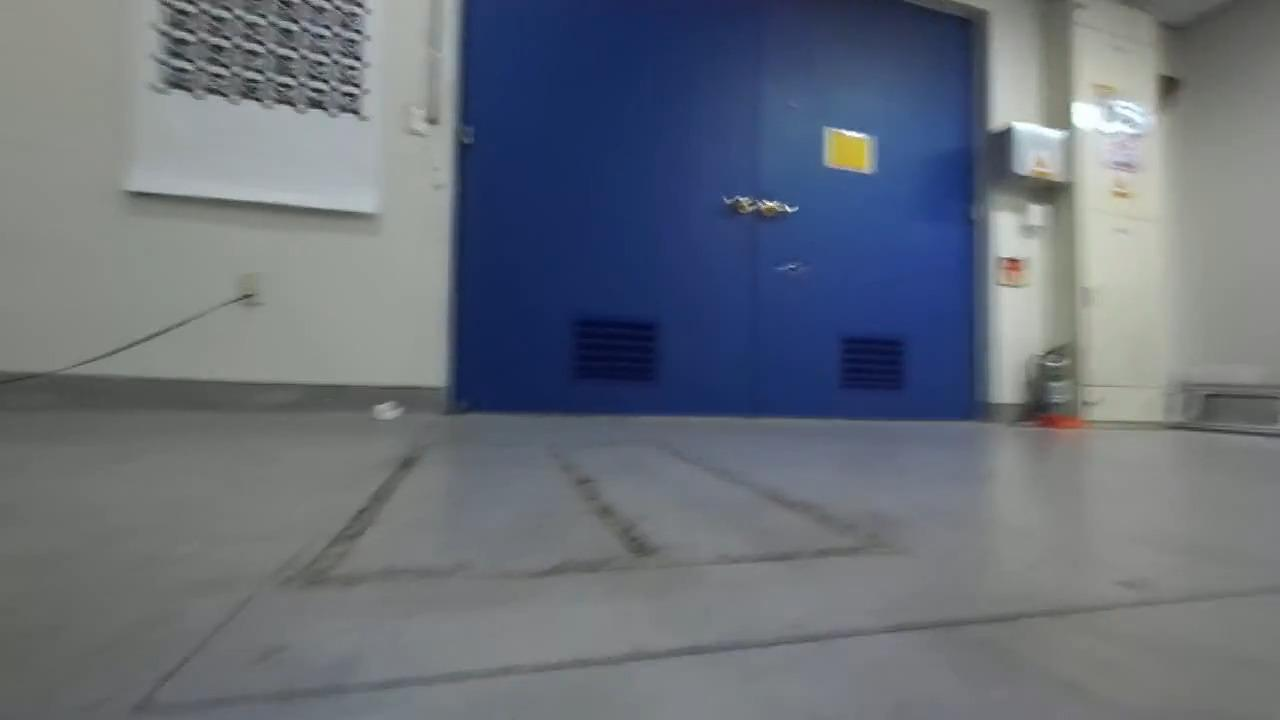crazyflie: (770, 258, 814, 279)
